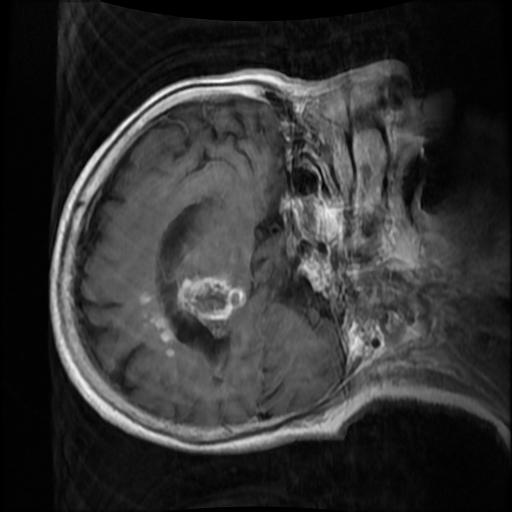glioma: (175, 276, 248, 322)
